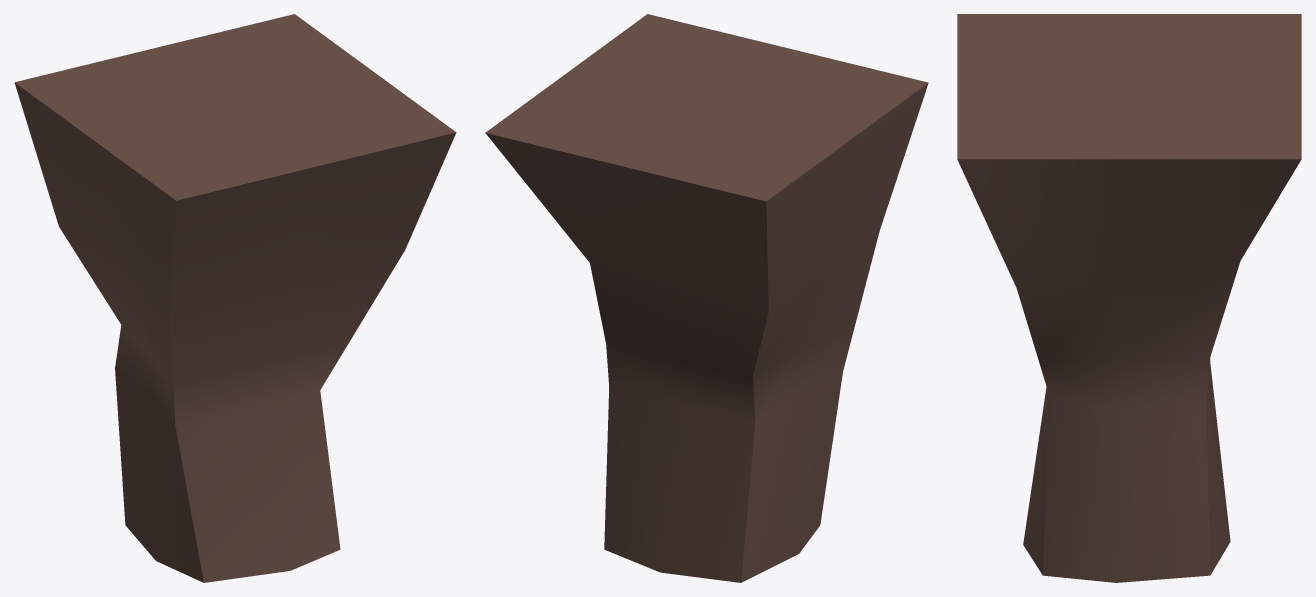
The model's file is Cave_Pillar_Top_Low.fbx.
The picture shows the model from 3 angles, left to right: view 1: azimuth 30°, elevation 25°; view 2: azimuth 150°, elevation 25°; view 3: azimuth 270°, elevation 25°; orthographic projection. The views are drawn at different scales.
Visible parts, largest first — view 1: Cave_Pillar_Top_Low; view 2: Cave_Pillar_Top_Low; view 3: Cave_Pillar_Top_Low.
Part boxes in pixels (<box>): Cave_Pillar_Top_Low: <box>14,14,456,582</box>; Cave_Pillar_Top_Low: <box>485,14,928,582</box>; Cave_Pillar_Top_Low: <box>957,14,1301,582</box>.
Bounding box in the file's own units: 2.05 × 2.06 × 3.
